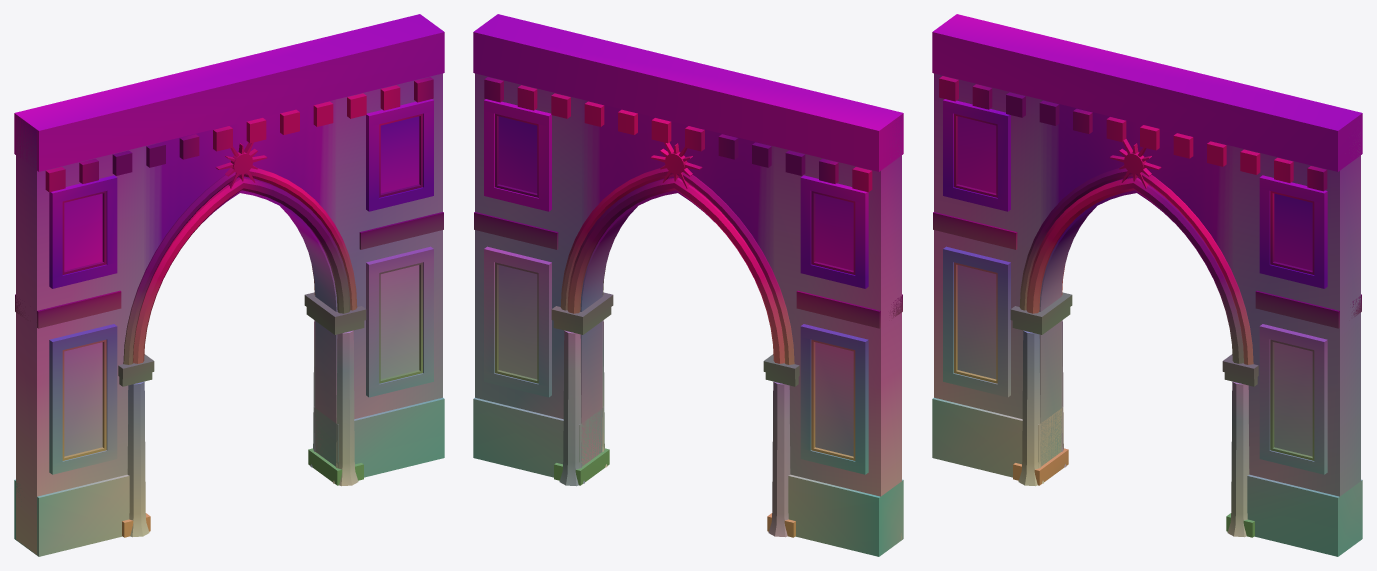
File: palace_portal_4m.glb
3 views of the same model, side by side, from view 1: azimuth 30°, elevation 25°; view 2: azimuth 150°, elevation 25°; view 3: azimuth 330°, elevation 25° (orthographic).
Parts seen in each view (by area): view 1: palace_portal_mould, palace_portal_wall, palace_portal_panels, palace_sunburst, palace_archivolt0, palace_archivolt1, palace_portal_imposts, palace_colonnette.002, palace_colonnette; view 2: palace_portal_mould, palace_portal_wall, palace_portal_panels, palace_sunburst, palace_archivolt0, palace_archivolt1, palace_portal_imposts, palace_colonnette.003, palace_colonnette.001; view 3: palace_portal_mould, palace_portal_wall, palace_portal_panels, palace_sunburst, palace_archivolt0, palace_archivolt1, palace_portal_imposts, palace_colonnette, palace_colonnette.002.
Part boxes in pixels (x1,y1,x2,y2): palace_portal_mould: (14, 14, 444, 556); palace_portal_wall: (16, 73, 442, 554); palace_portal_panels: (64, 116, 419, 456); palace_sunburst: (15, 77, 443, 460); palace_archivolt0: (133, 177, 350, 363); palace_archivolt1: (123, 168, 357, 364); palace_portal_imposts: (118, 292, 366, 537); palace_colonnette.002: (332, 330, 358, 486); palace_colonnette: (127, 381, 149, 537); palace_portal_mould: (473, 14, 903, 556); palace_portal_wall: (475, 73, 901, 539); palace_portal_panels: (498, 116, 853, 456); palace_sunburst: (474, 77, 902, 460); palace_archivolt0: (567, 177, 784, 363); palace_archivolt1: (560, 168, 794, 364); palace_portal_imposts: (551, 292, 799, 537); palace_colonnette.003: (559, 330, 585, 486); palace_colonnette.001: (768, 381, 790, 537); palace_portal_mould: (932, 14, 1362, 556); palace_portal_wall: (934, 73, 1360, 538); palace_portal_panels: (957, 116, 1312, 456); palace_sunburst: (933, 76, 1361, 460); palace_archivolt0: (1026, 177, 1243, 363); palace_archivolt1: (1019, 168, 1253, 364); palace_portal_imposts: (1010, 292, 1258, 537); palace_colonnette: (1018, 330, 1044, 486); palace_colonnette.002: (1227, 381, 1249, 537).
Bounding box in the file's own units: 4 × 4.01 × 0.618.
